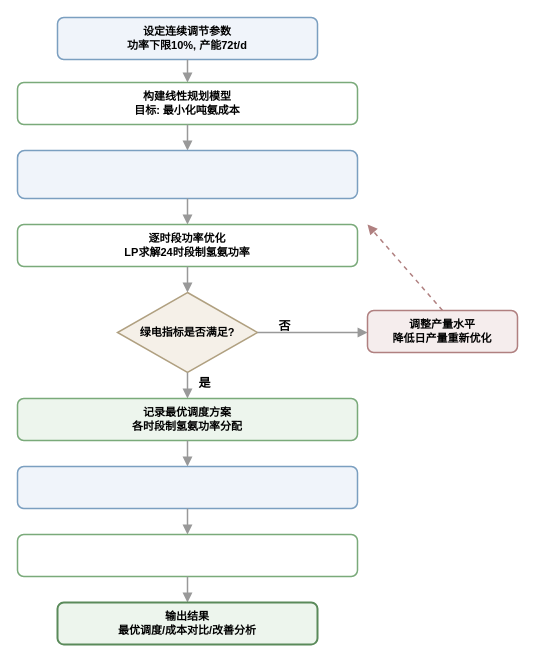
The diagram is 536 pixels wide and 663 high, and some of its shapes have lost their labels. Here are the shapes that lost their labels. From the top down, the centre of each, then its label:
the point at 187,174: 设定约束条件 功率平衡/设备上下限/绿电指标
the point at 187,487: 24场景遍历 计算全年成本分布
the point at 187,555: 与问题二结果对比分析 吨氨成本/绿电指标变化
